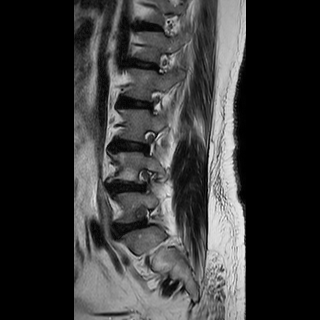RFS0: (134, 124, 164, 162)
RFS1: (129, 164, 160, 201)
